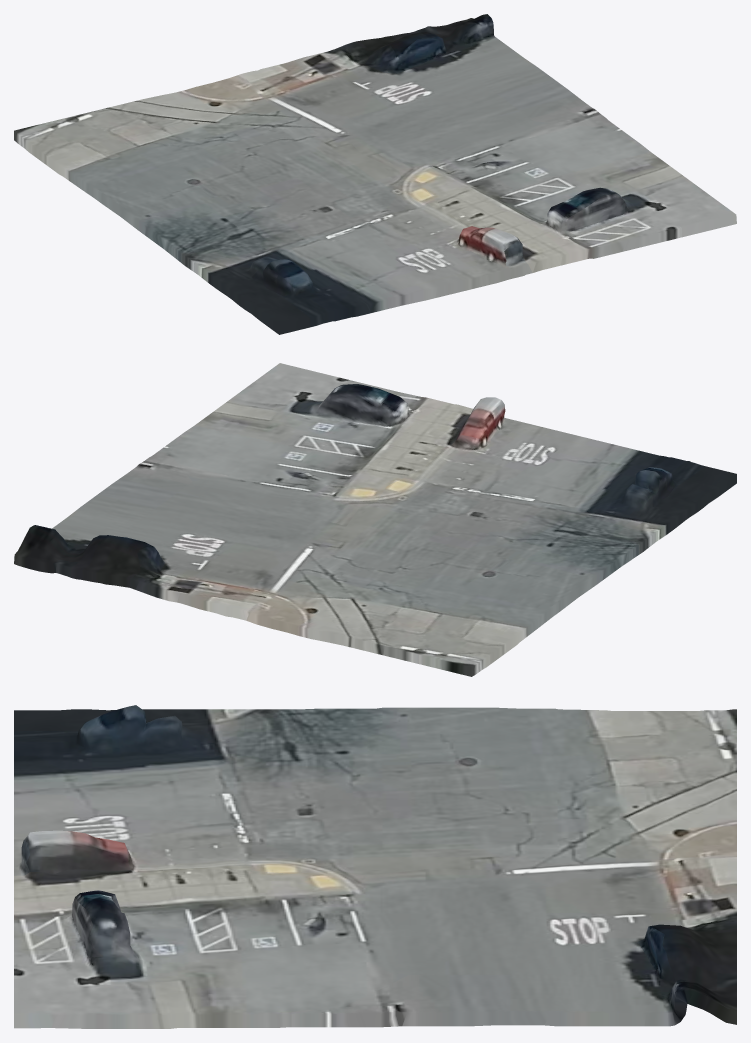
File: z20-167771-405201-h0-yup-uvflip-v3-world.glb
The picture shows the model from 3 angles, top to bottom: view 1: azimuth 30°, elevation 25°; view 2: azimuth 150°, elevation 25°; view 3: azimuth 270°, elevation 25°; orthographic projection. The views are drawn at different scales.
Bounding box in the file's own units: 30.2 × 2.32 × 30.32.
1 material, 1 textured.
